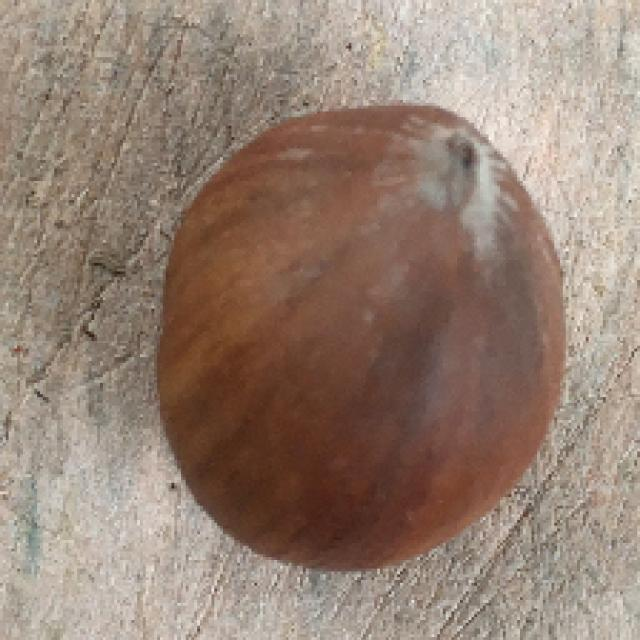qualityHazelnut: (154, 95, 570, 580)
